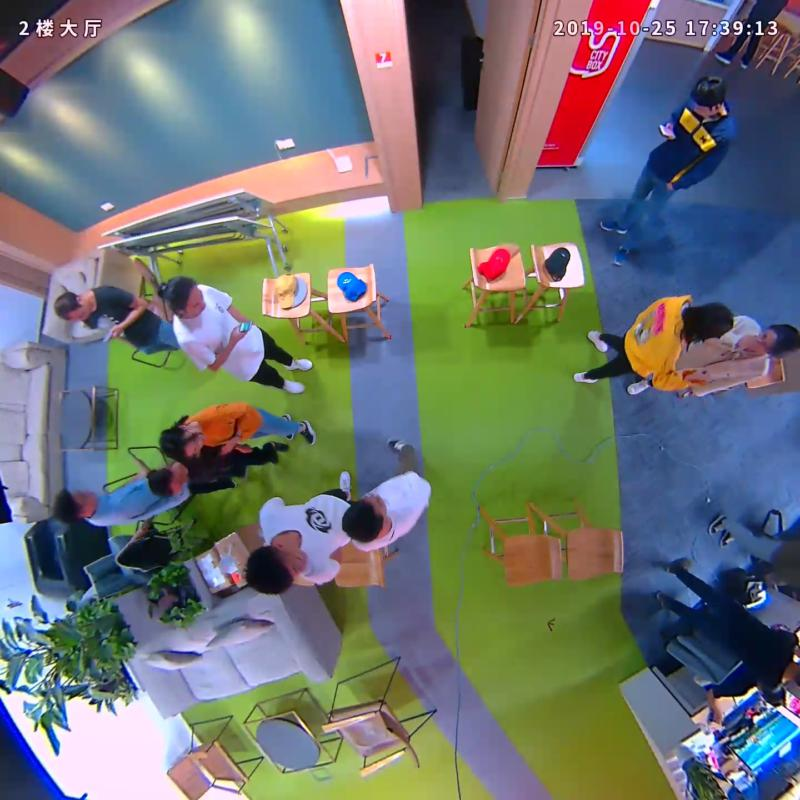head: (245, 543, 307, 595), (342, 493, 386, 543), (162, 276, 207, 318), (688, 300, 735, 340), (160, 425, 205, 461), (752, 323, 800, 356), (54, 487, 97, 523), (691, 75, 726, 118), (53, 290, 93, 321), (146, 468, 184, 498)
